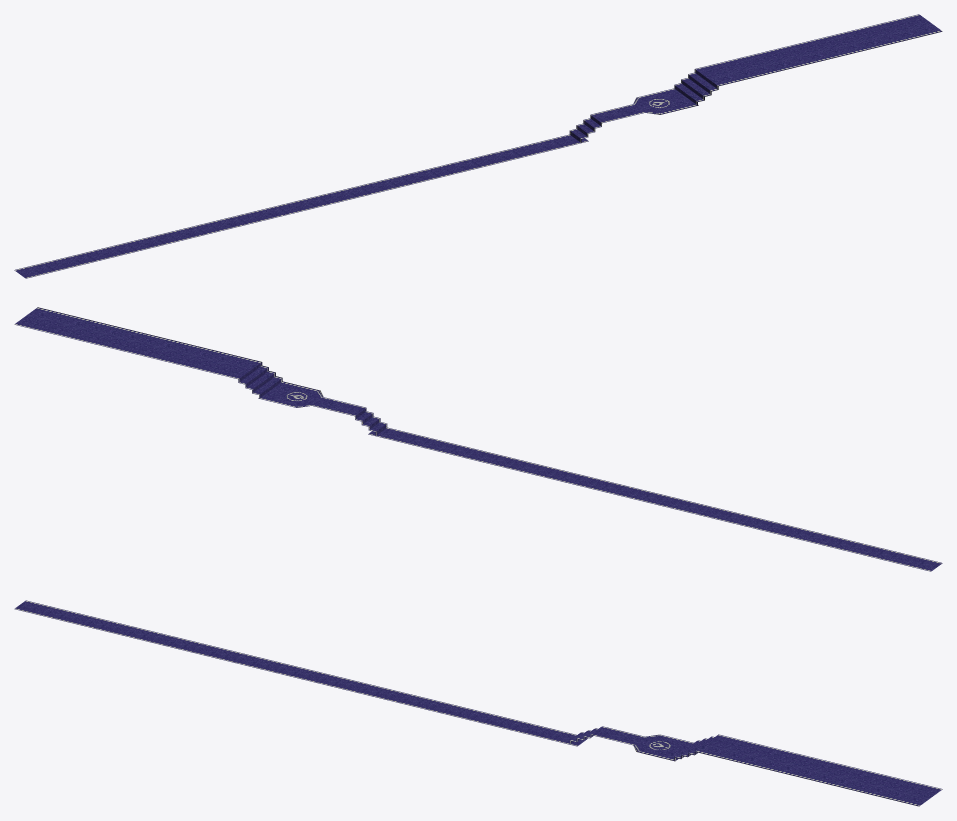
Rendered from ObjMD_Daiseido_Carpet_A.FBX.
3 views of the same model, one above another, from view 1: azimuth 30°, elevation 25°; view 2: azimuth 150°, elevation 25°; view 3: azimuth 330°, elevation 25° (orthographic).
Visible parts, largest first — view 1: ObjMD_Daiseido_Carpet_A; view 2: ObjMD_Daiseido_Carpet_A; view 3: ObjMD_Daiseido_Carpet_A.
Part boxes in pixels (bbox=[...]): ObjMD_Daiseido_Carpet_A: bbox=[14, 14, 942, 278]; ObjMD_Daiseido_Carpet_A: bbox=[14, 307, 942, 571]; ObjMD_Daiseido_Carpet_A: bbox=[14, 600, 942, 806].
Size of the model in its own units: 6631 by 203 by 300.
